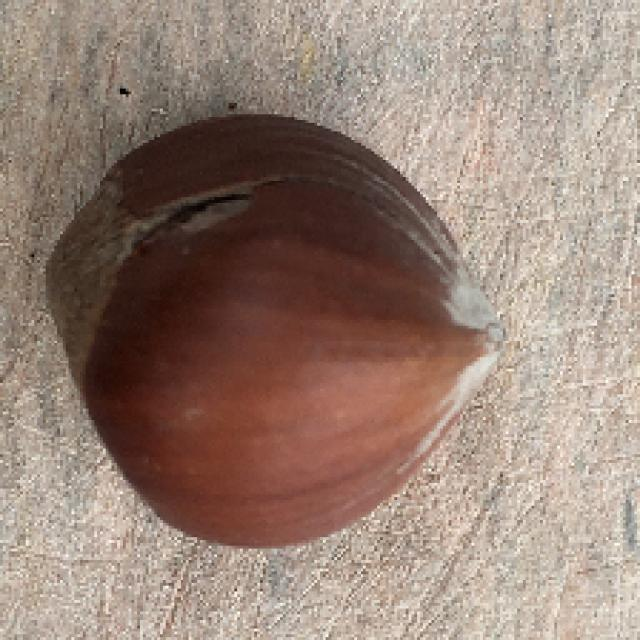damagedHazelnut: (44, 102, 522, 532)
